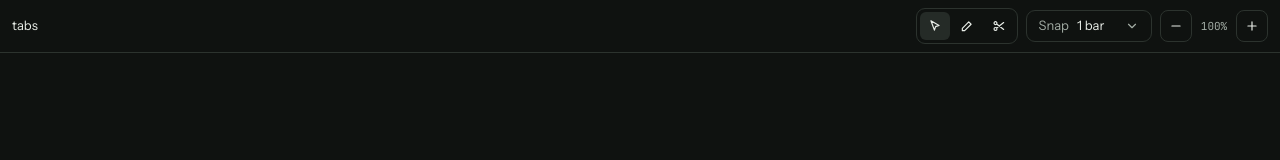
Test: ViewToolbar › should zoom in and out and save the zoom in the project
The image size is (1280, 160).
Click the button named "Zoom in": (1252, 26) [1236,10,1268,42]
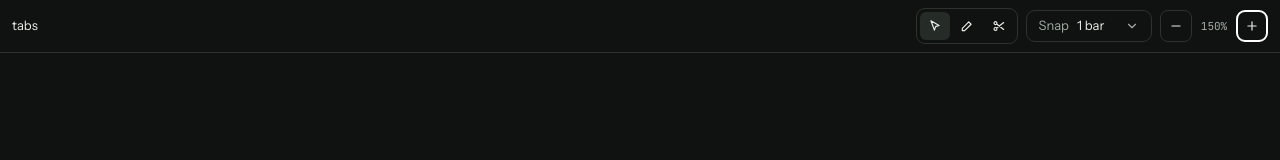
Click the button named "Zoom in": (1252, 26) [1236,10,1268,42]
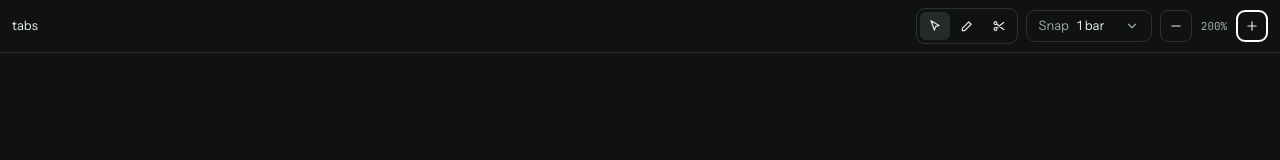
Click the button named "Zoom out": (1176, 26) [1160,10,1192,42]
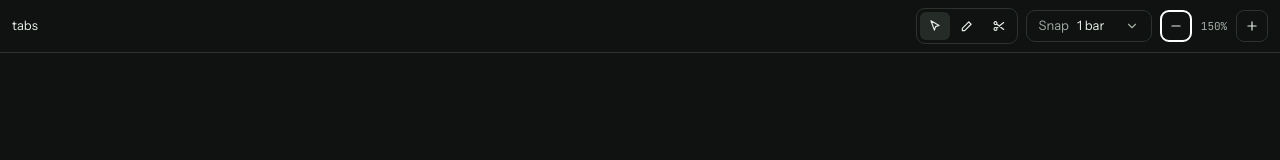
Expected: the text named "Zoom level" reads "150%", [1201,19,1227,33]
